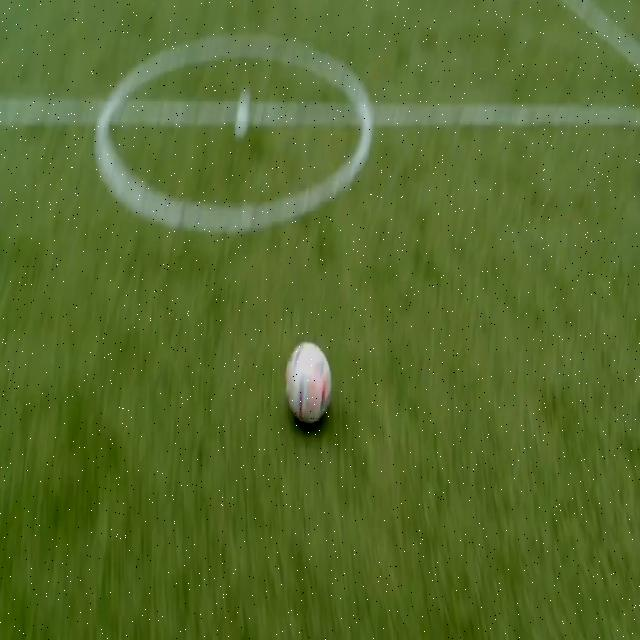ball: (286, 343, 332, 424)
